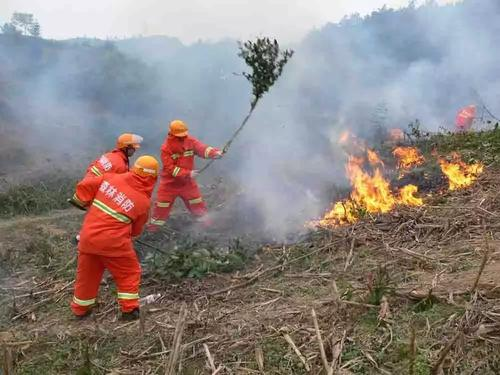fire: (328, 146, 417, 222), (438, 161, 483, 190)
